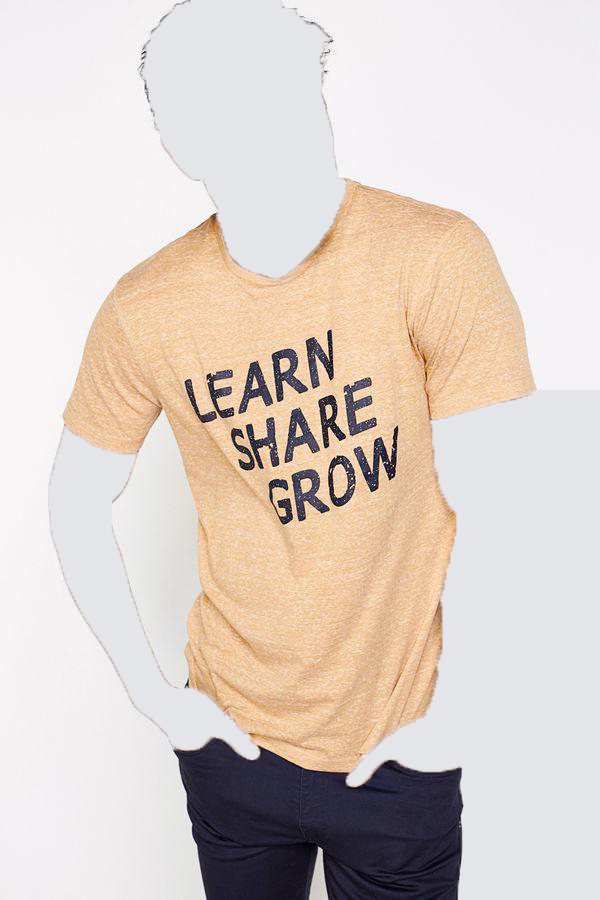teeshirt: (56, 178, 541, 785)
